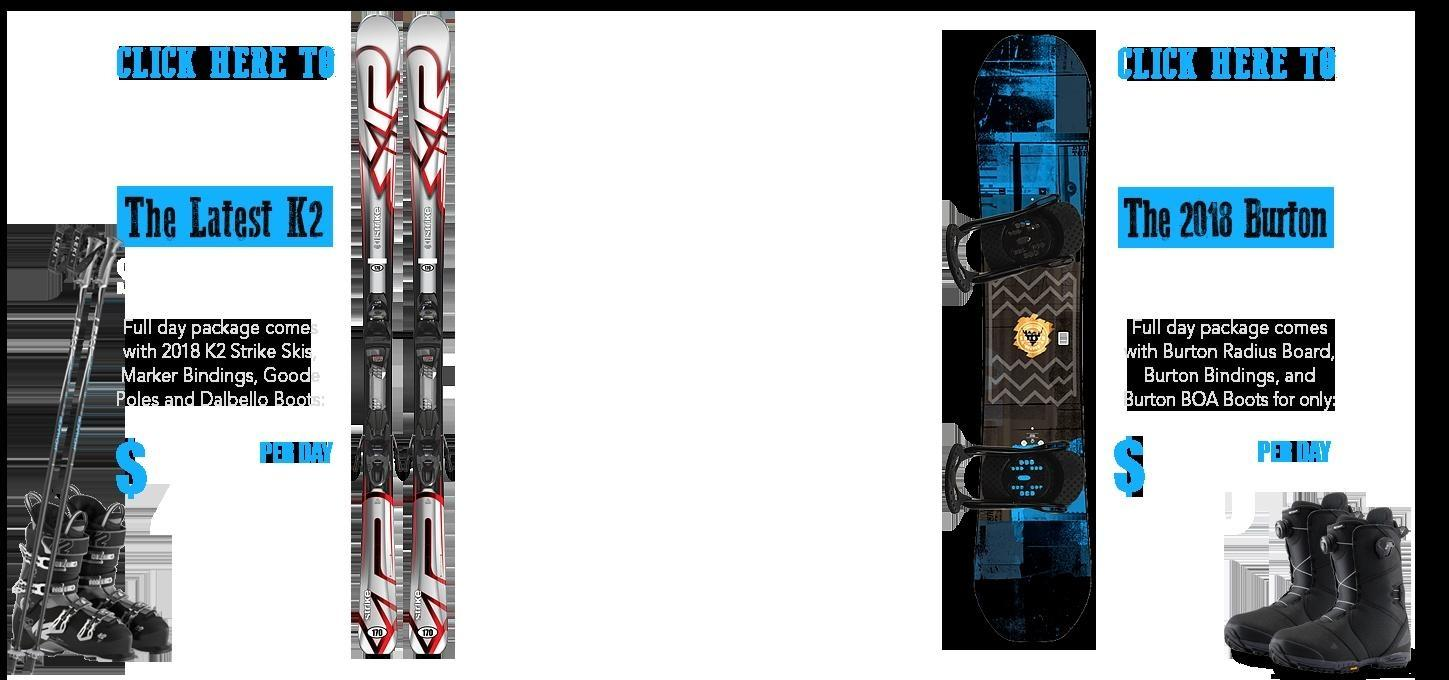Skis: (330, 0, 490, 678)
